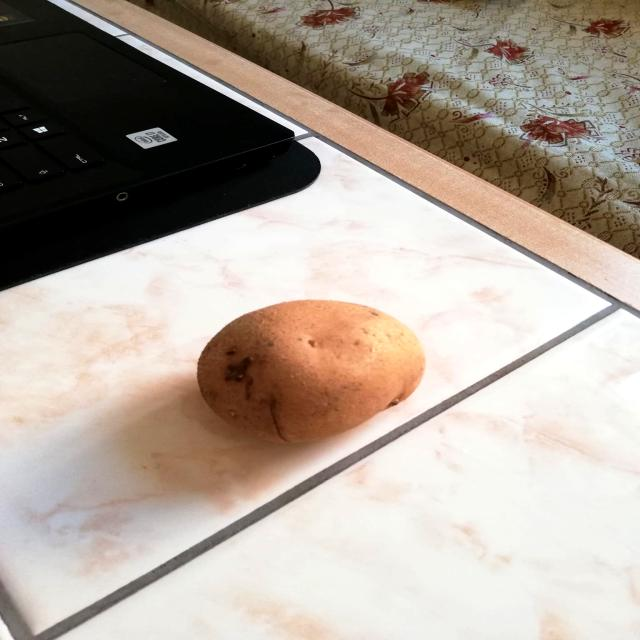potato: (186, 294, 446, 453)
